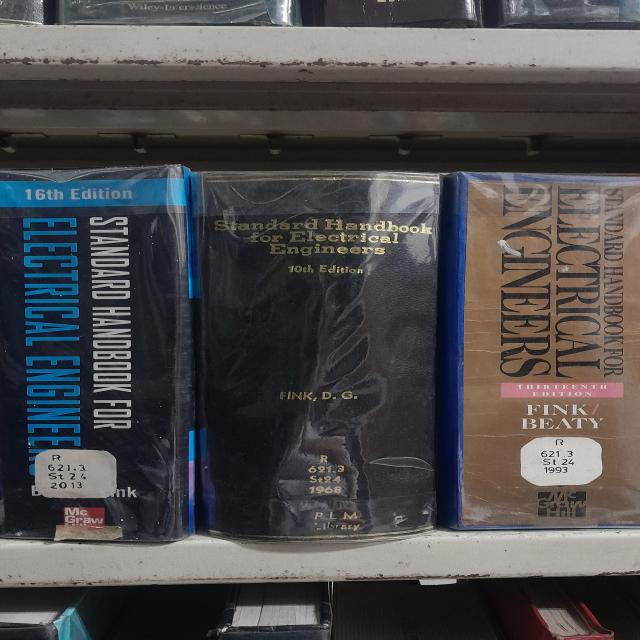book: (191, 172, 440, 541), (0, 165, 195, 541), (437, 172, 640, 530)
